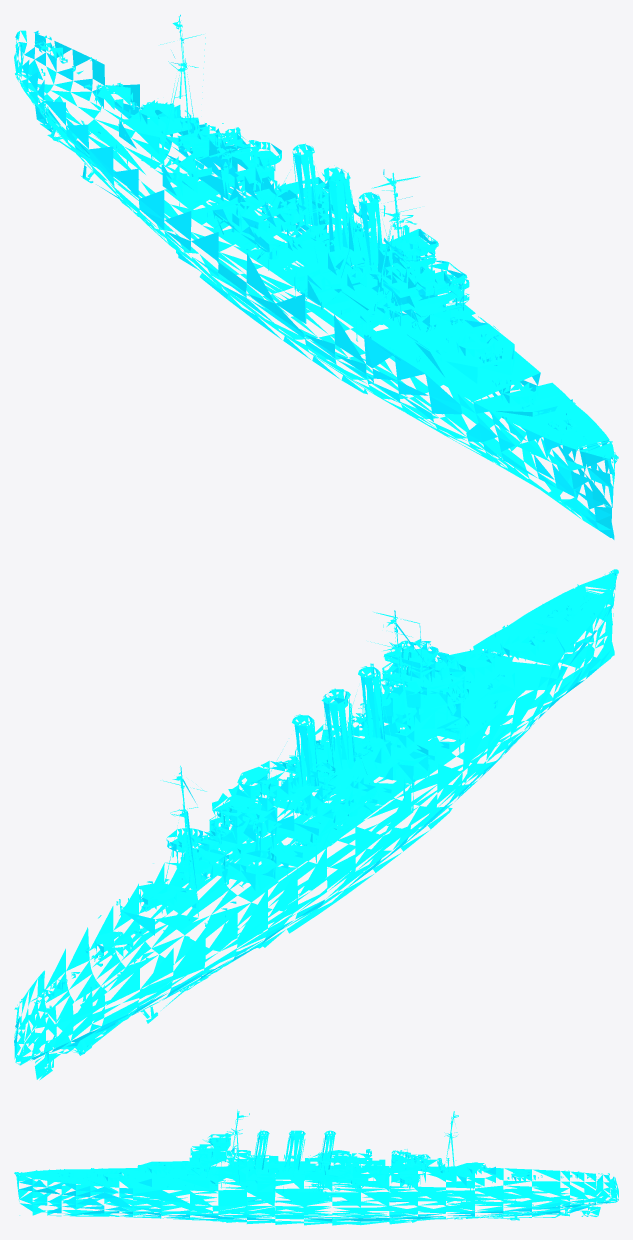
Rendered from Devonshire.glb.
The picture shows the model from 3 angles, top to bottom: view 1: azimuth 30°, elevation 25°; view 2: azimuth 150°, elevation 25°; view 3: azimuth 270°, elevation 25°; orthographic projection. The views are drawn at different scales.
Bounding box in the file's own units: 1.37 × 2.51 × 12.83.
